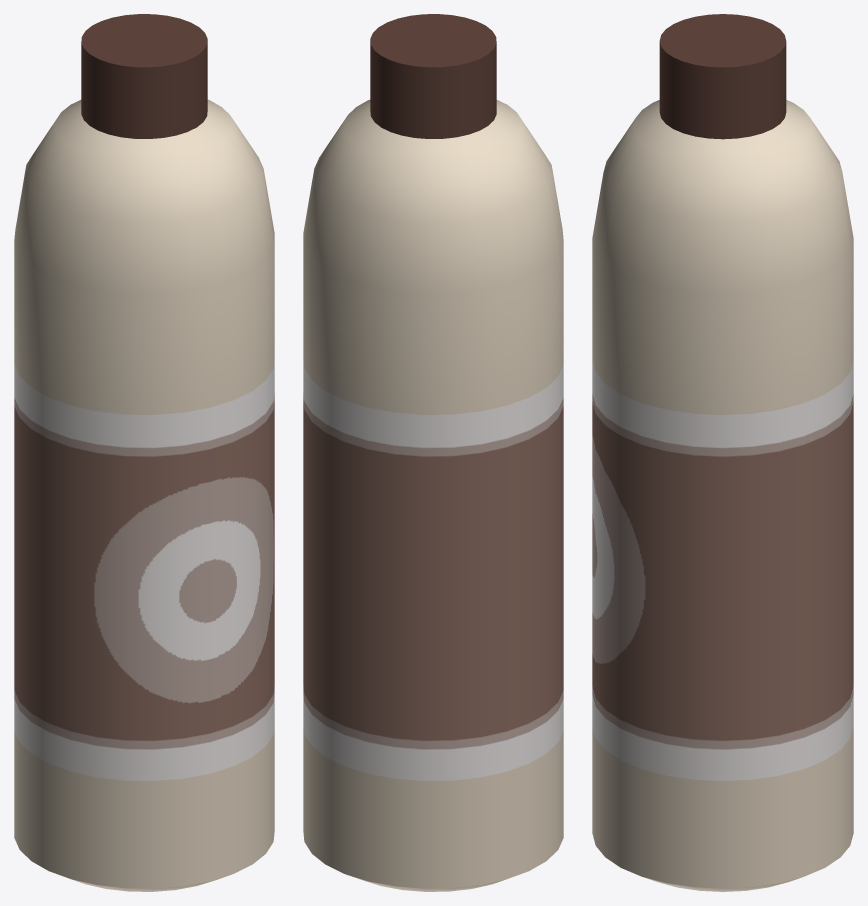
Rendered from Vinegar.fbx.
The picture shows the model from 3 angles, left to right: view 1: azimuth 30°, elevation 25°; view 2: azimuth 150°, elevation 25°; view 3: azimuth 270°, elevation 25°; orthographic projection.
Parts seen in each view (by area): view 1: Vinegar; view 2: Vinegar; view 3: Vinegar.
Part boxes in pixels (x1=…): Vinegar: x1=14, y1=14, x2=274, y2=891; Vinegar: x1=303, y1=14, x2=563, y2=891; Vinegar: x1=592, y1=14, x2=853, y2=891.
Bounding box in the file's own units: 0.066 × 0.225 × 0.066.
Materials: 3 (1 with a texture image).
